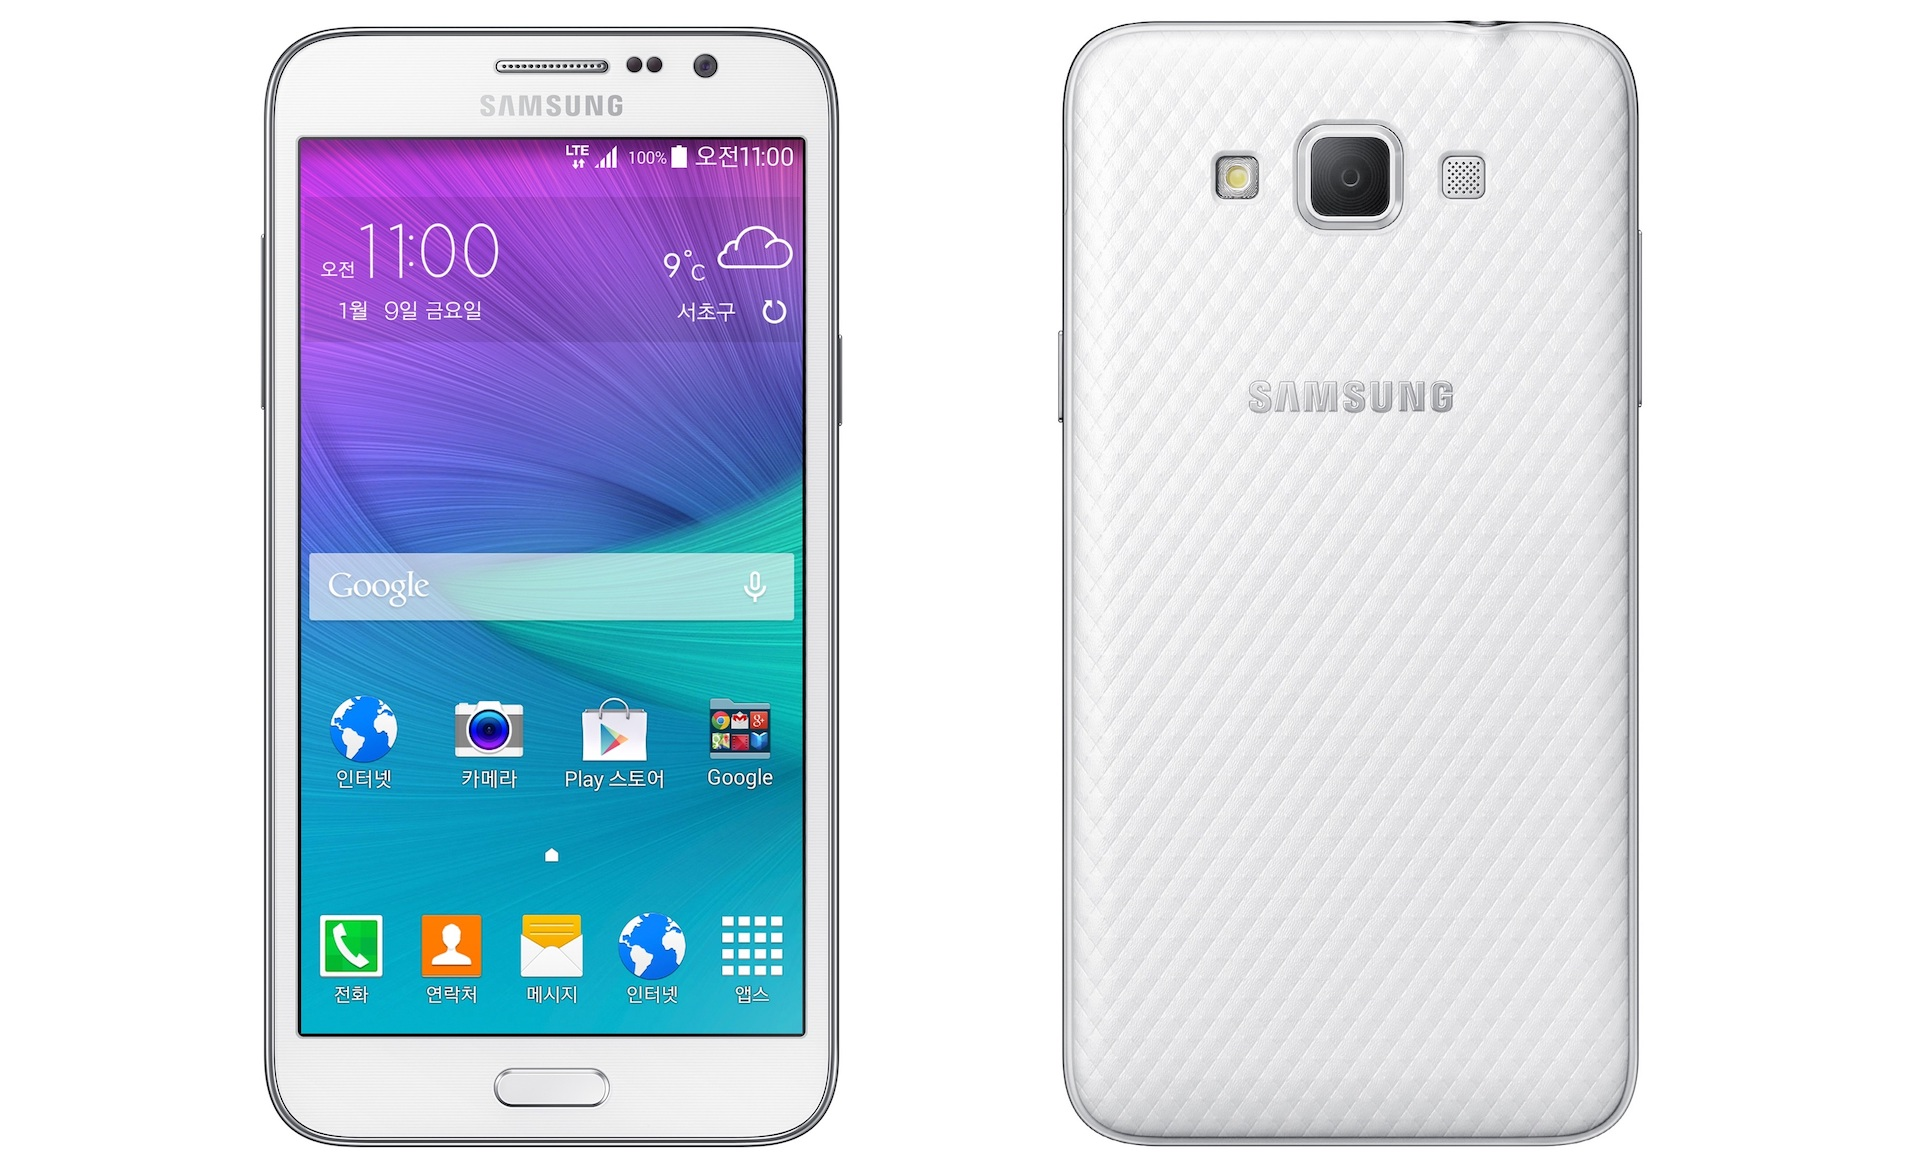smartphone: (256, 22, 850, 1150), (1053, 19, 1644, 1150)
